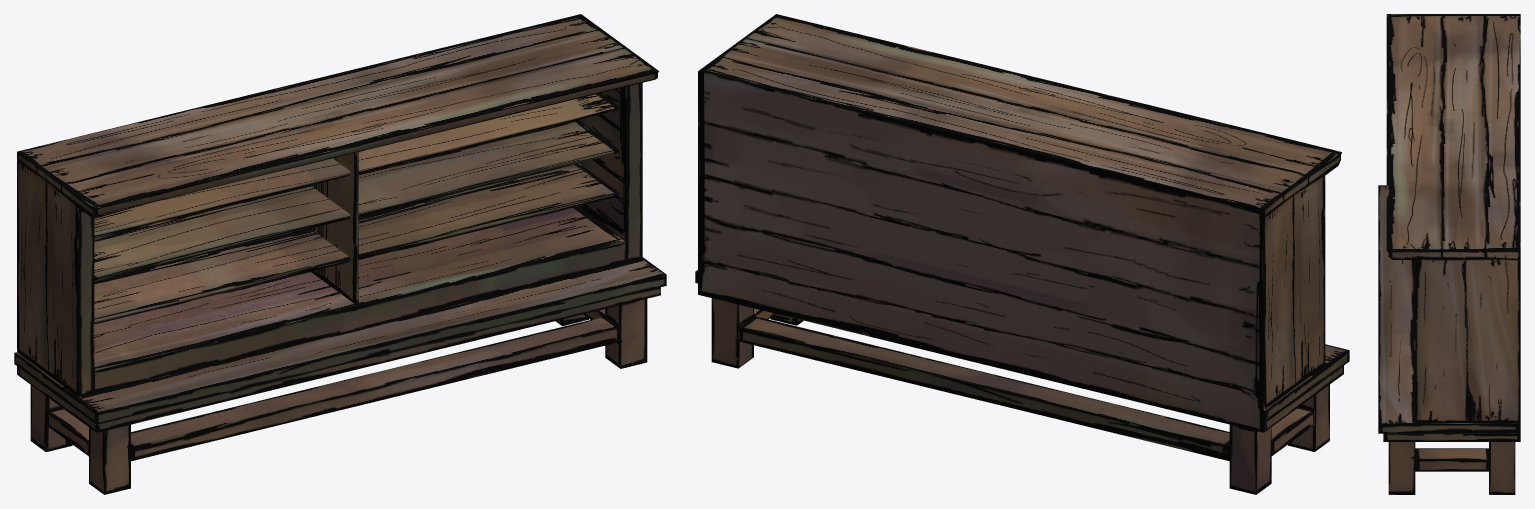
File: store_shelf.fbx
3 renders of one model, left to right at view 1: azimuth 30°, elevation 25°; view 2: azimuth 150°, elevation 25°; view 3: azimuth 270°, elevation 25°, orthographic. The views are drawn at different scales.
Parts seen in each view (by area): view 1: shelf_legs; view 2: shelf_legs; view 3: shelf_legs.
Boxes of the visible parts, box(x1,y1,x2,y2) form: shelf_legs: box(14, 14, 666, 494); shelf_legs: box(695, 14, 1349, 494); shelf_legs: box(1378, 14, 1520, 494).
Bounding box in the file's own units: 1070 × 520 × 270.
